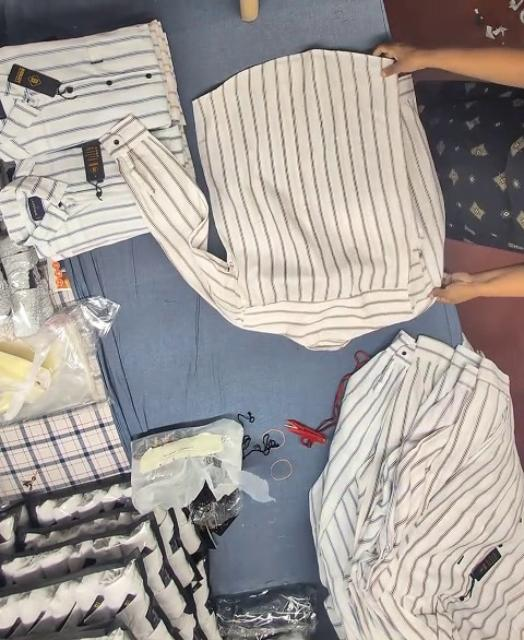new-garment: (120, 50, 445, 348)
